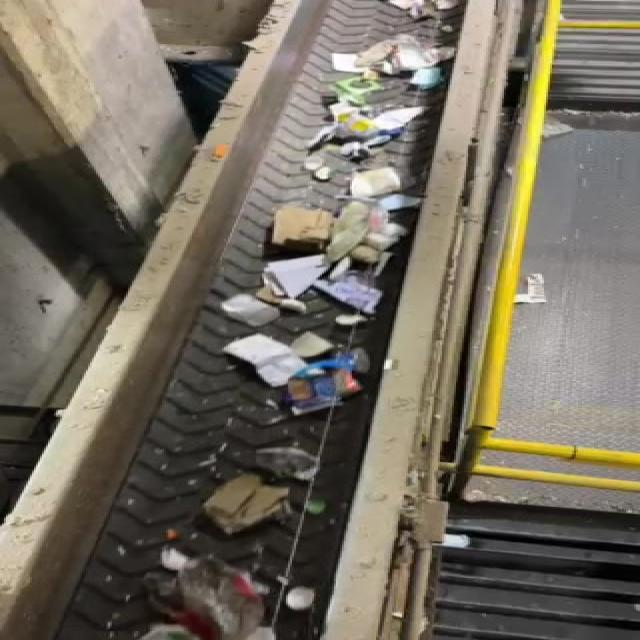paper: (201, 474, 292, 541)
